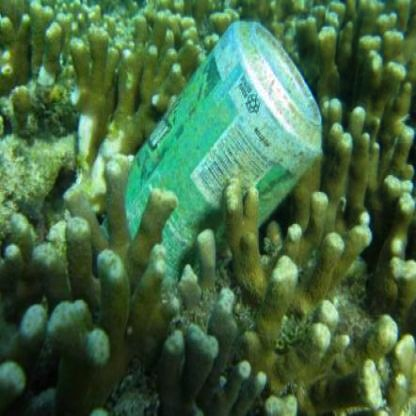can: (114, 44, 342, 308)
